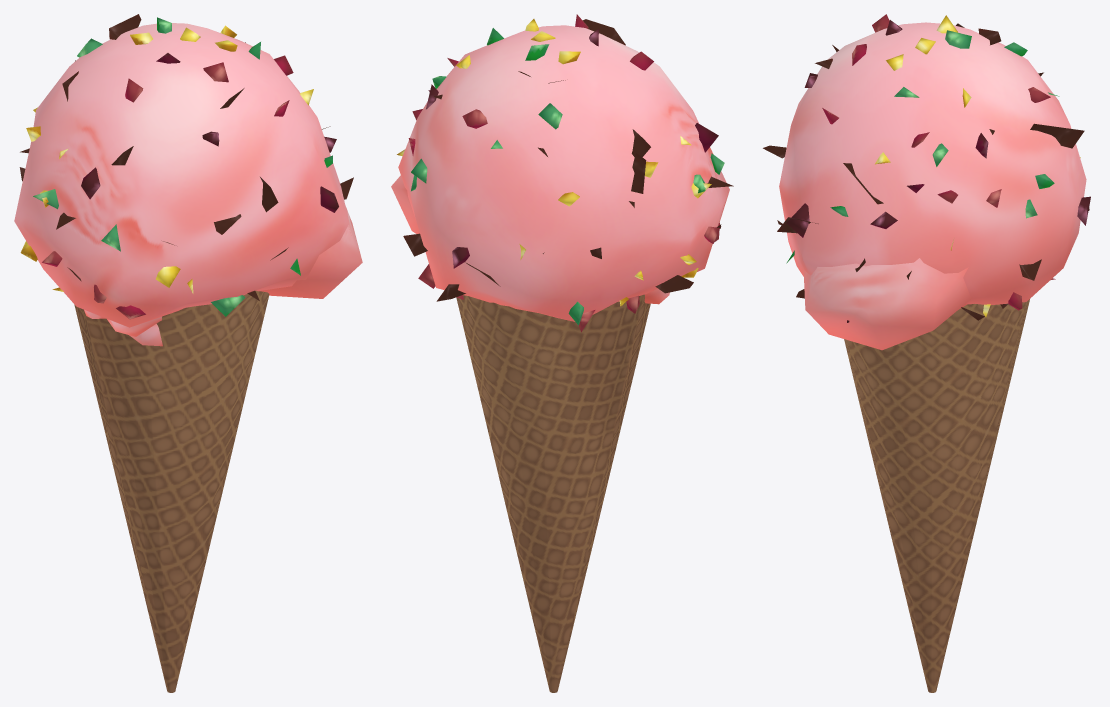
Rendered from StrawberryIcecream.glb.
3 views of the same model, side by side, from view 1: azimuth 30°, elevation 25°; view 2: azimuth 150°, elevation 25°; view 3: azimuth 270°, elevation 25° (orthographic).
Visible parts, largest first — view 1: Object_11; view 2: Object_11; view 3: Object_11.
Boxes of the visible parts, x1,y1,x2,y2 form: Object_11: [14, 14, 362, 692]; Object_11: [391, 14, 733, 692]; Object_11: [763, 14, 1090, 692].
Bounding box in the file's own units: 0.2497 × 0.5071 × 0.2322.
Materials: 1 (1 with a texture image).
